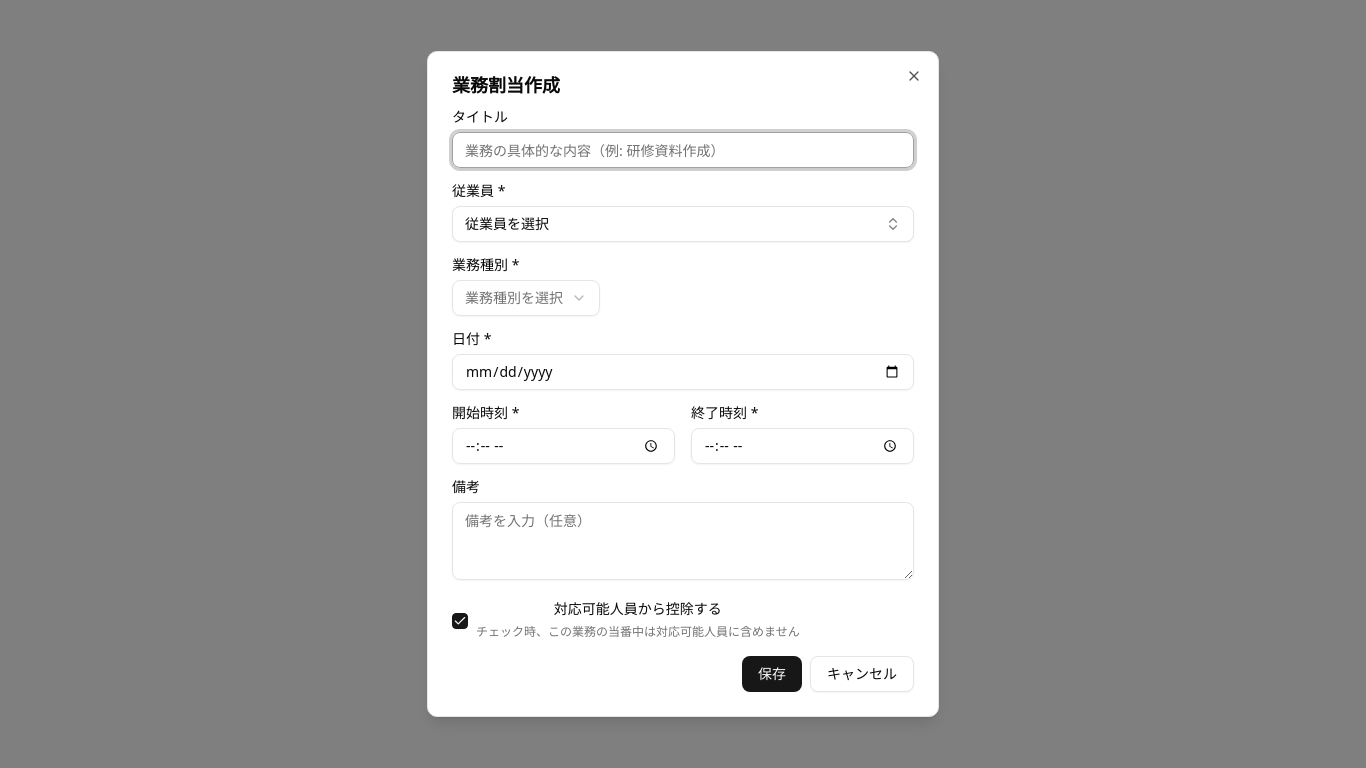
Test: DutyAssignmentForm - 業務種別選択時のフィールド保護 › 初回選択: 空のフィールドにデフォルト値が反映される
The image size is (1366, 768).
Click the dropdown labelled "業務種別を選択": (526, 298) [452,280,600,316]
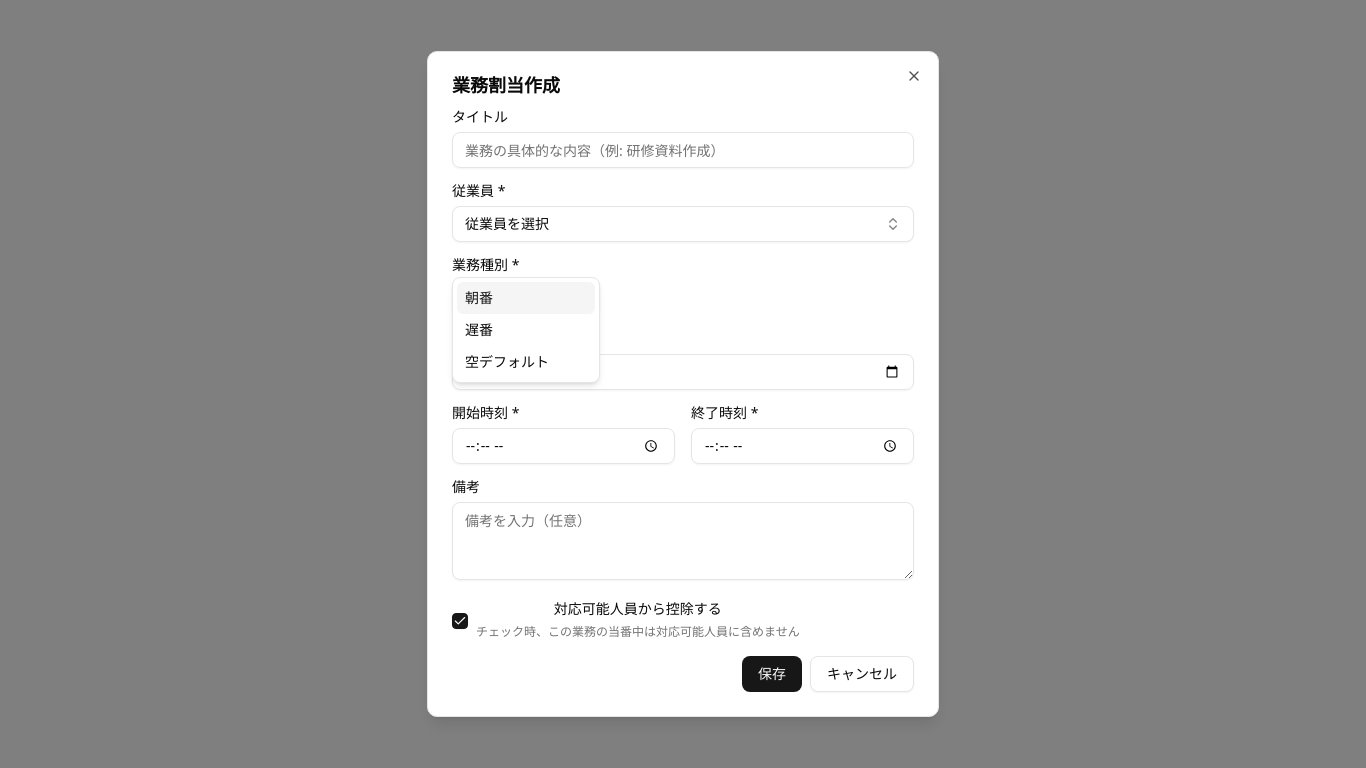
Click the option "朝番": (526, 298) [457,282,595,314]
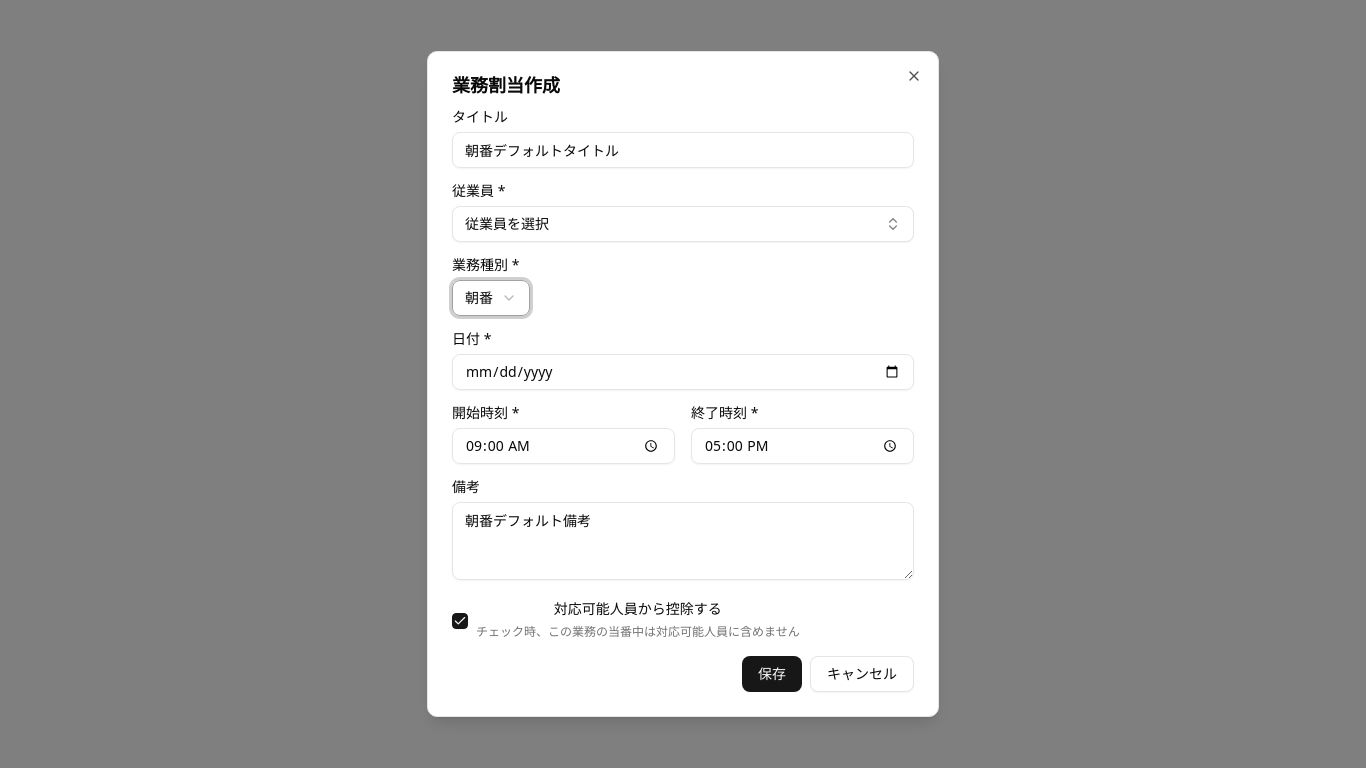
Expected: the field labelled "タイトル" holds "朝番デフォルトタイトル", [452,132,914,168]
Expected: the time field labelled "開始時刻 *" holds "09:00", [452,428,675,464]
Expected: the time field labelled "終了時刻 *" holds "17:00", [691,428,914,464]
